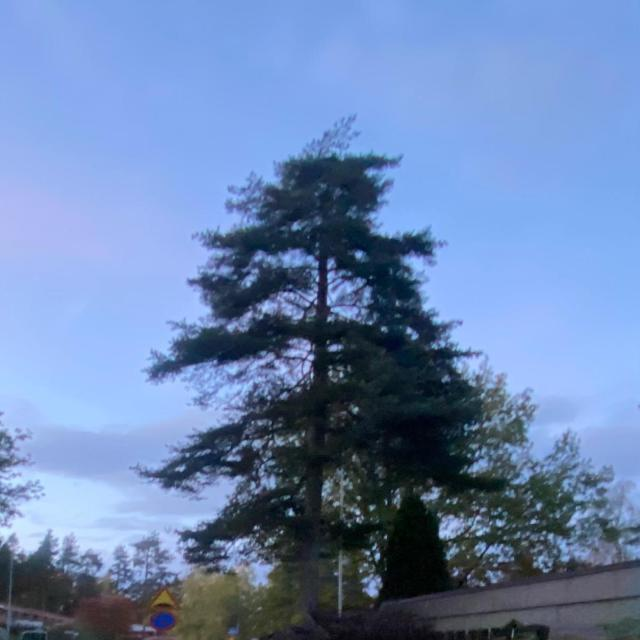pine: (118, 116, 516, 628)
